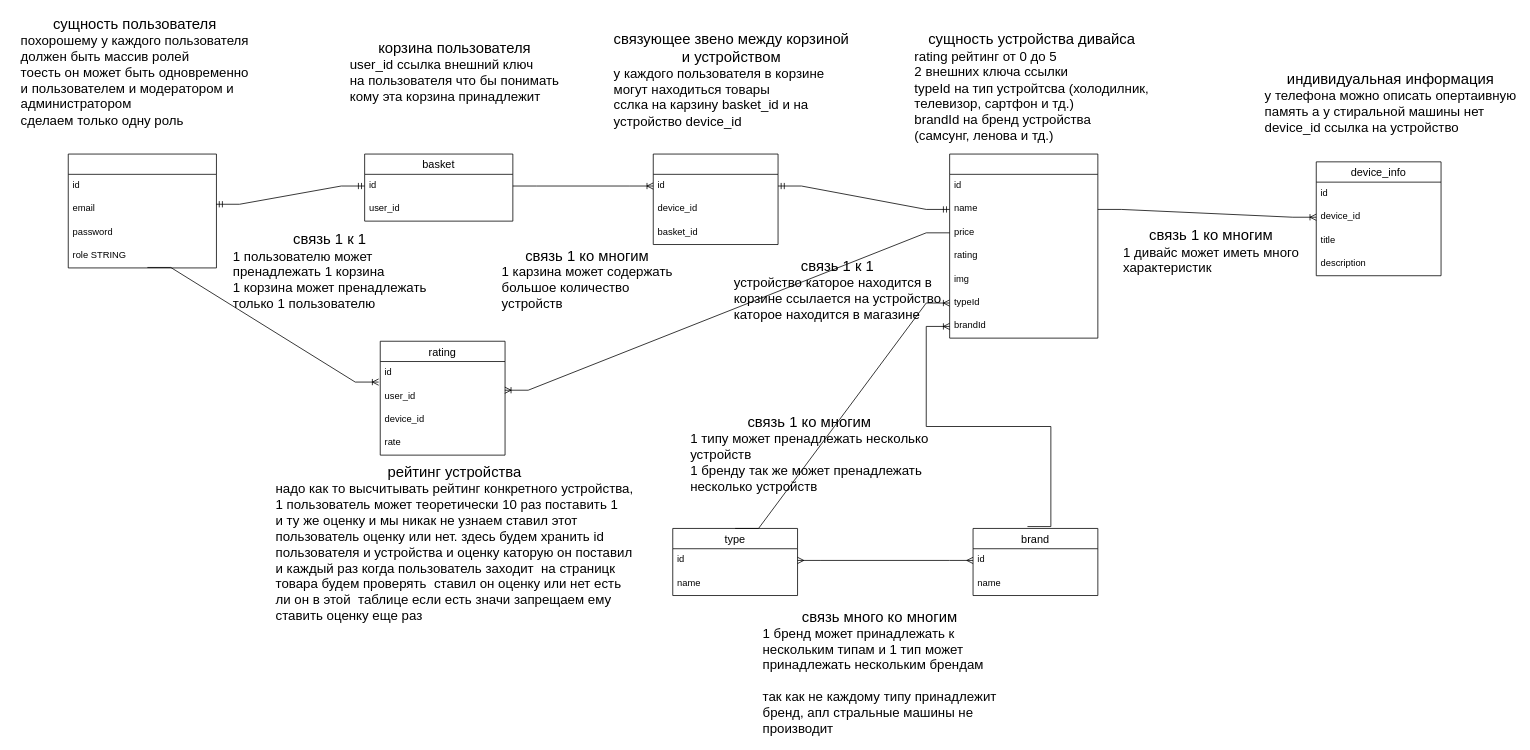
This 1530x750 diagram has some shape labels left out. The shapes that lost their labels are listed below. From the top down, each one's box as (x1, y1, x2, y2) in pixels, then its label:
(67, 153, 216, 268): User
(652, 153, 778, 245): basket_device
(949, 153, 1098, 338): device
